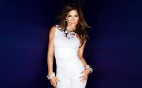female: (59, 4, 86, 38)
